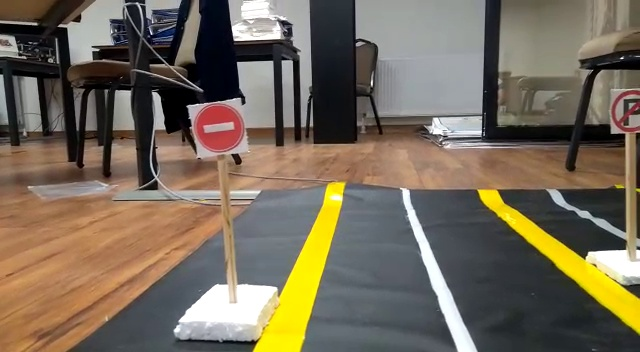girisi_olmayan_yol: (196, 98, 246, 154)
park_yapilmaz: (608, 84, 640, 132)
